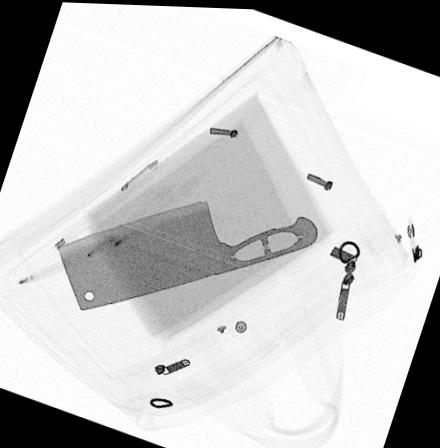Knife: (54, 196, 318, 312)
